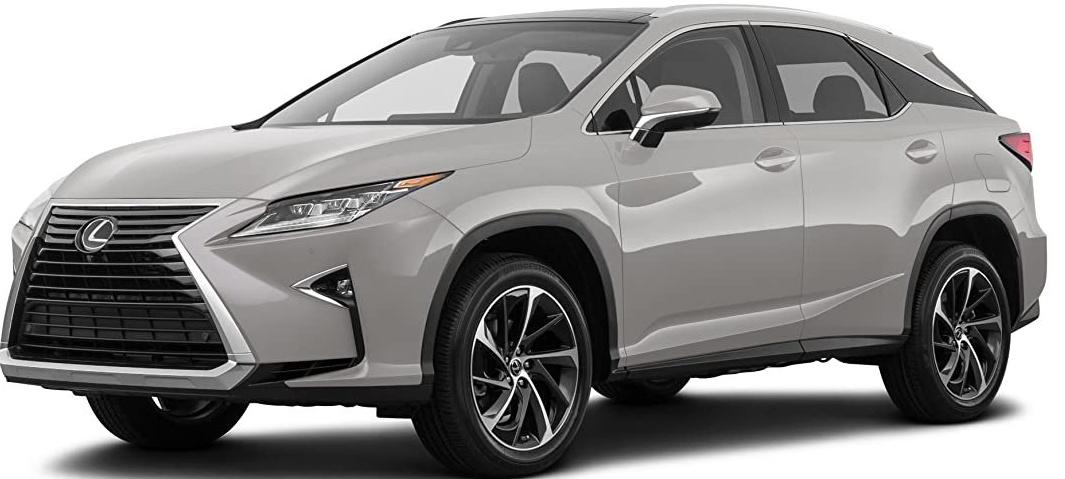Crossovers: (1, 7, 1047, 477)
